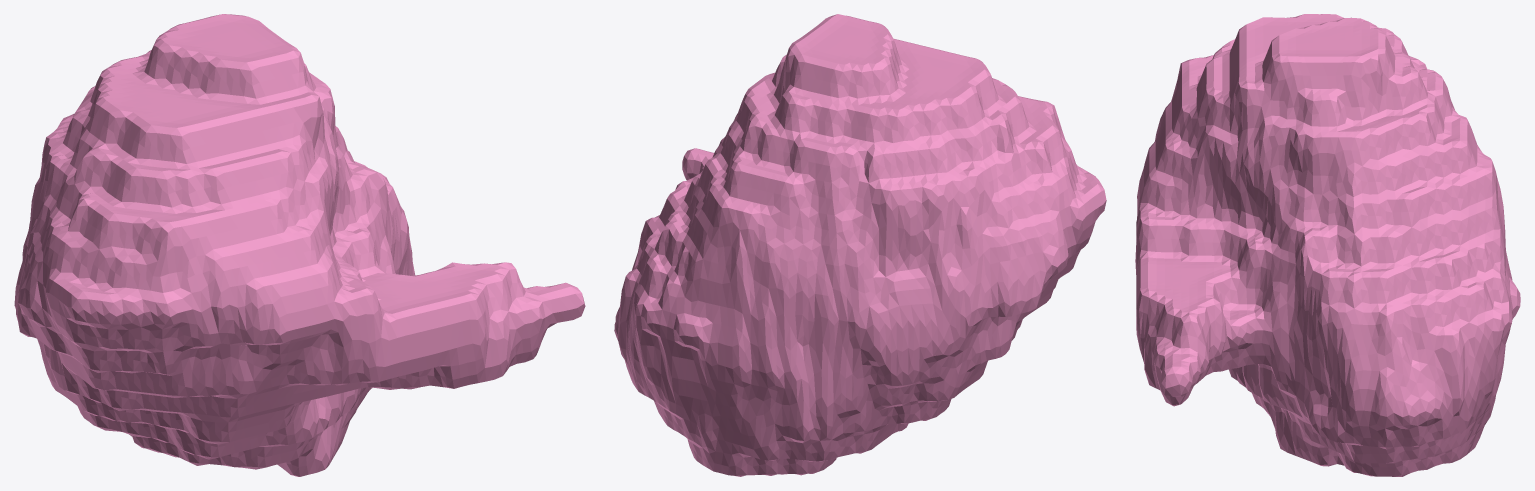
File: tumor.glb
3 views of the same model, side by side, from view 1: azimuth 30°, elevation 25°; view 2: azimuth 150°, elevation 25°; view 3: azimuth 270°, elevation 25° (orthographic). The views are drawn at different scales.
Parts seen in each view (by area): view 1: geometry_0; view 2: geometry_0; view 3: geometry_0.
Boxes of the visible parts, x1=… form: geometry_0: x1=14, y1=14, x2=585, y2=476; geometry_0: x1=614, y1=14, x2=1106, y2=476; geometry_0: x1=1135, y1=14, x2=1520, y2=476.
Size of the model in its own units: 24.95 by 21.17 by 19.28.
